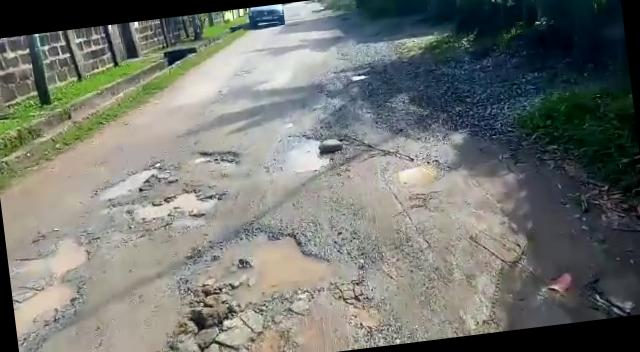pothole: (159, 214, 381, 329), (10, 276, 86, 351), (132, 184, 226, 227), (85, 161, 168, 201), (268, 129, 334, 177), (30, 231, 93, 277), (396, 160, 441, 188)
